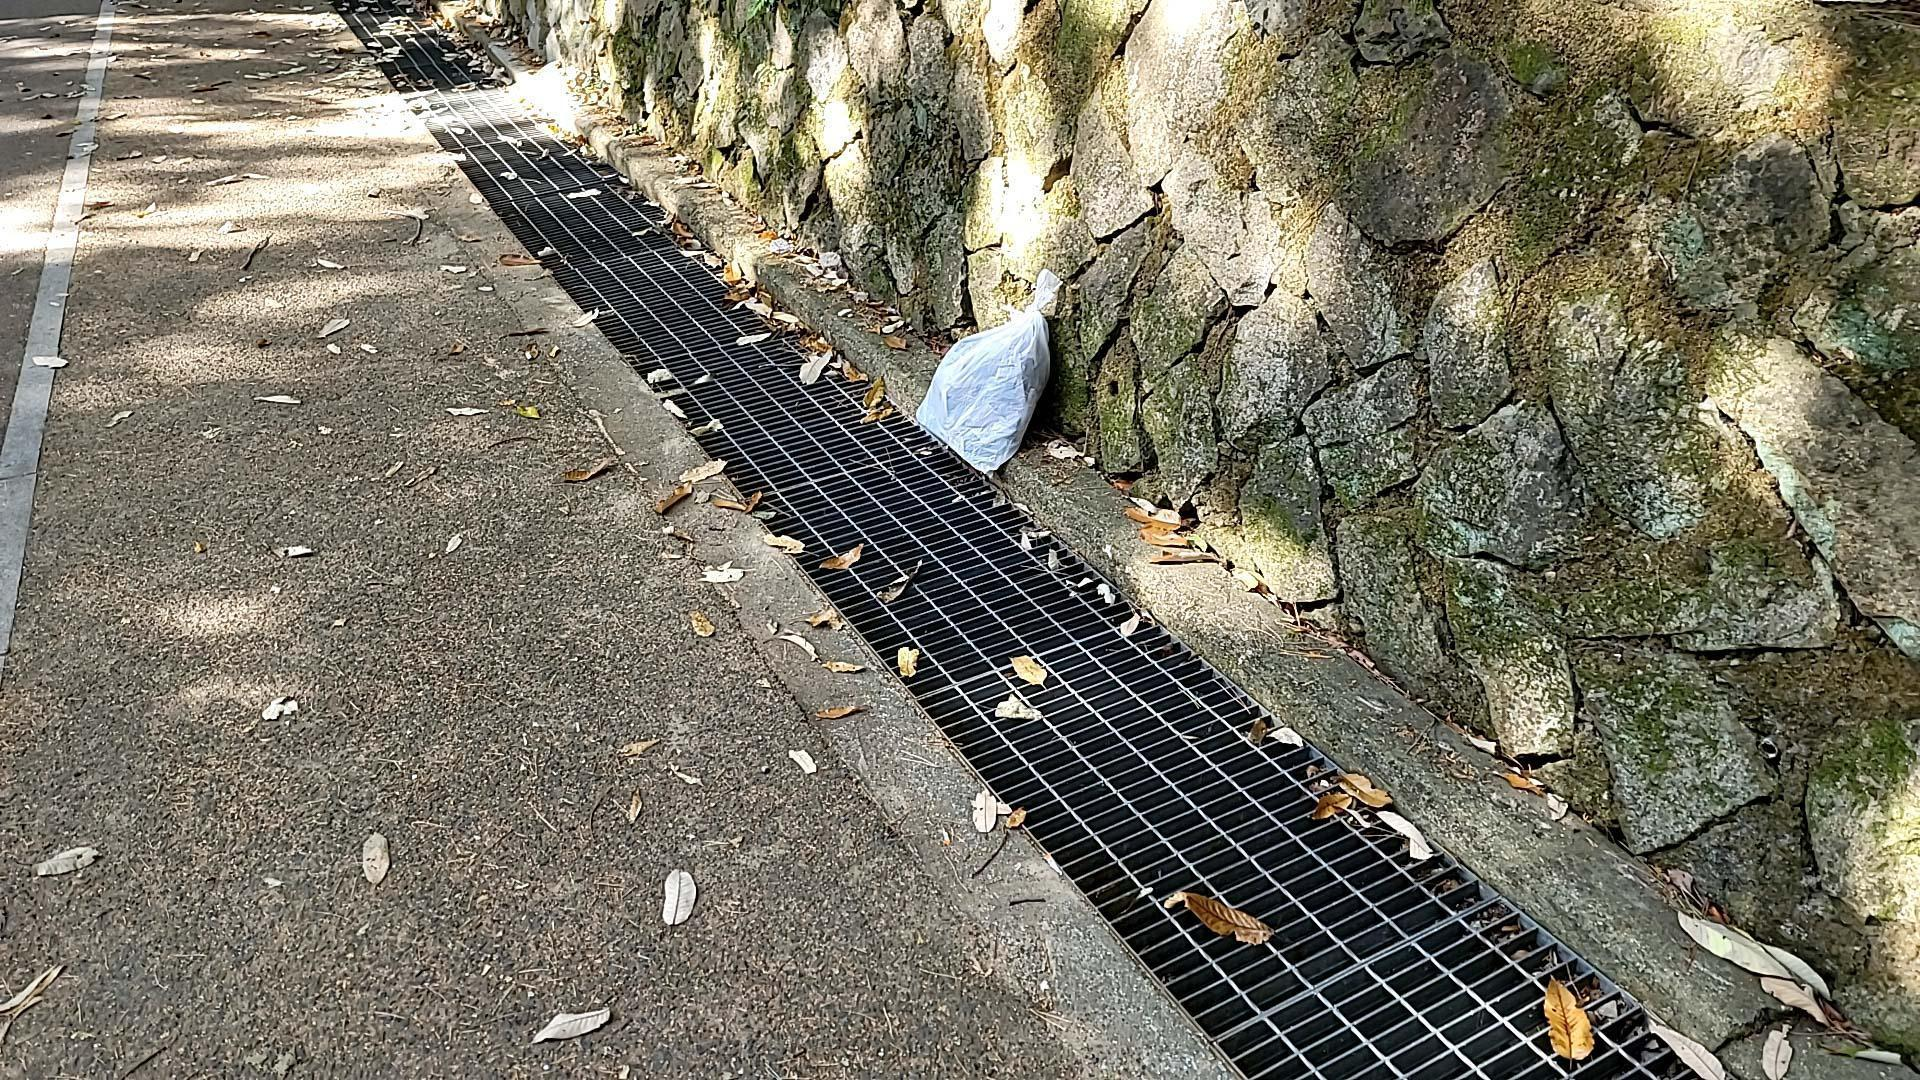white_bag: (907, 266, 1071, 480)
